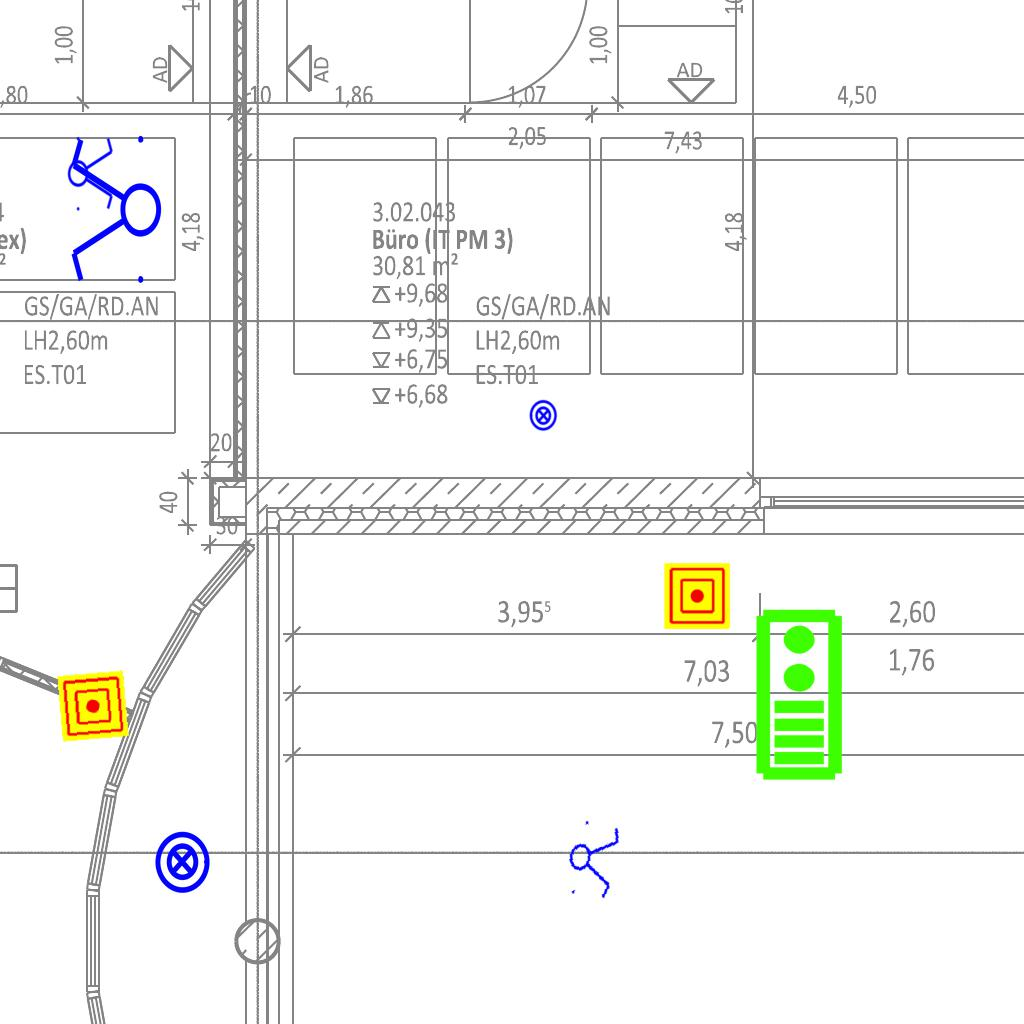Gegensprechanlage_mit_Video: (750, 606, 845, 782)
NAM-Nichtautomatischer_Melder: (57, 670, 129, 742), (664, 563, 730, 629)
Serienschalter: (67, 127, 163, 295), (561, 813, 625, 905), (67, 131, 115, 215)
Taster_beleuchtet: (149, 829, 215, 895), (527, 399, 560, 432)
